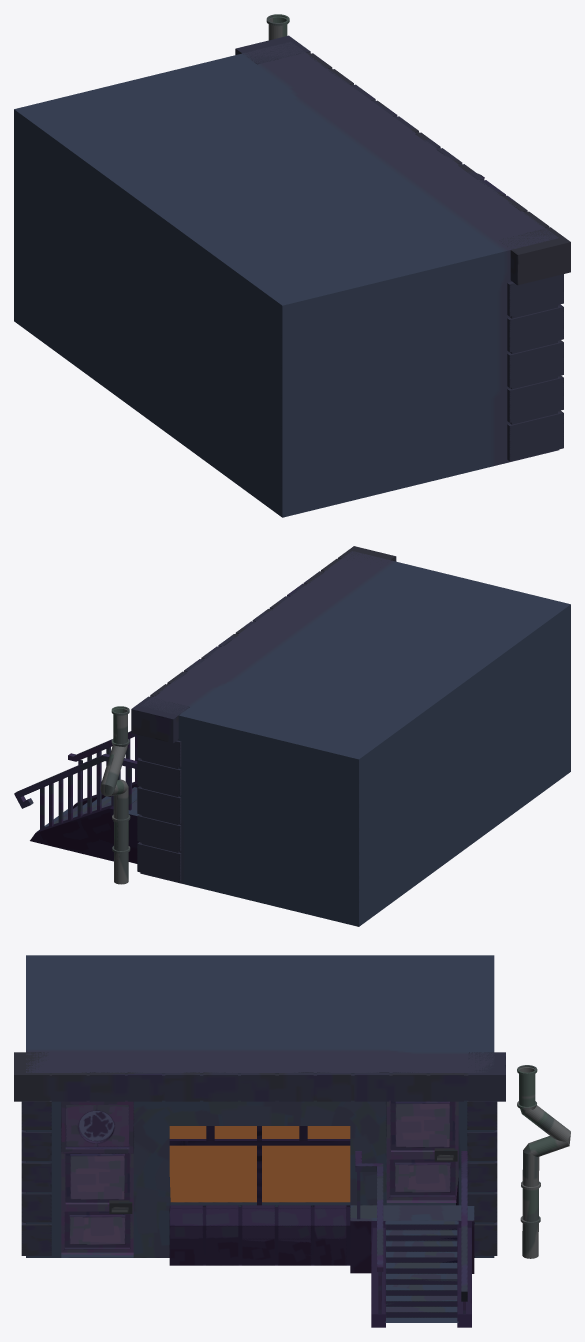
Rendered from Batiment1_rdc.fbx.
3 views of the same model, one above another, from view 1: azimuth 30°, elevation 25°; view 2: azimuth 150°, elevation 25°; view 3: azimuth 270°, elevation 25° (orthographic). The views are drawn at different scales.
Parts seen in each view (by area): view 1: Cube.021; view 2: Cube.021; view 3: Cube.021.
Boxes of the visible parts, bbox=[...] form: Cube.021: bbox=[14, 14, 570, 517]; Cube.021: bbox=[14, 546, 570, 926]; Cube.021: bbox=[14, 955, 570, 1327].
Size of the model in its own units: 669 by 318 by 819.
